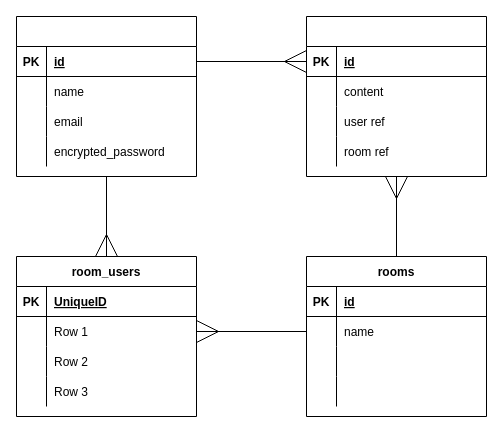
Some shapes in this 503 by 433 pixel diagram are drawn without their labels. The box of each missing label's shape, as (x1, y1, x2, y2) in pixels:
messages: (306, 16, 486, 176)
users: (16, 16, 196, 176)
